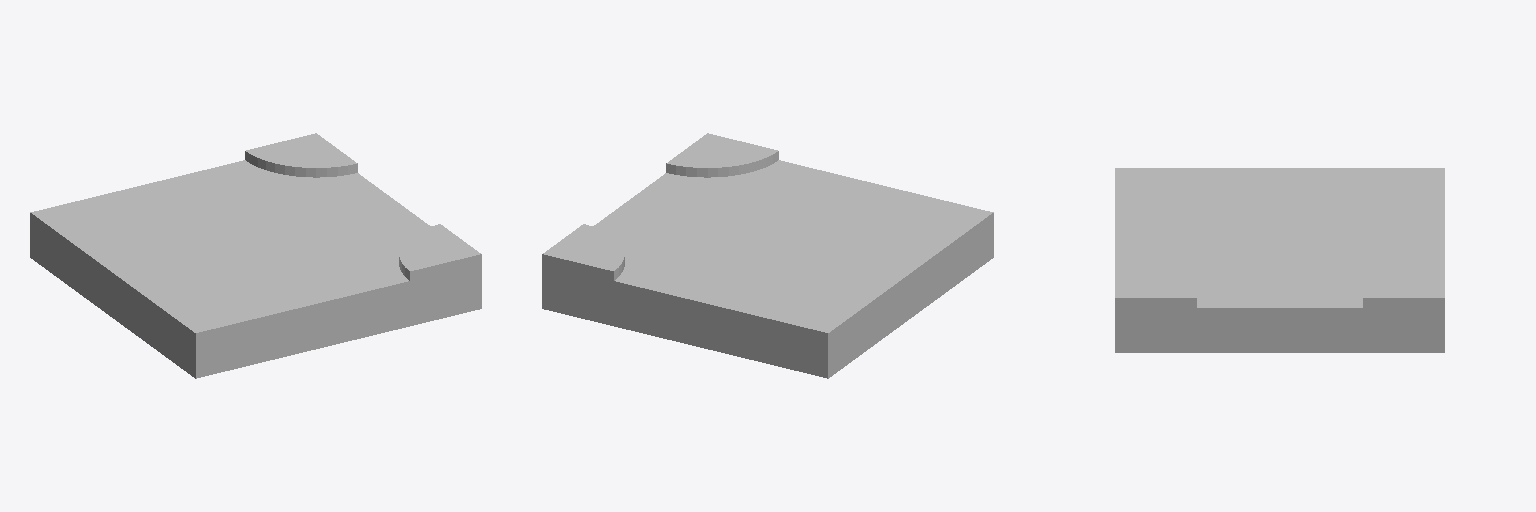
File: tile097.obj
The picture shows the model from 3 angles: view 1: azimuth 30°, elevation 25°; view 2: azimuth 150°, elevation 25°; view 3: azimuth 270°, elevation 25°; orthographic projection.
Parts seen in each view (by area): view 1: tile097; view 2: tile097; view 3: tile097.
Boxes of the visible parts, x1=… form: tile097: x1=30, y1=133, x2=481, y2=378; tile097: x1=542, y1=133, x2=993, y2=378; tile097: x1=1115, y1=168, x2=1444, y2=352.
Bounding box in the file's own units: 1 × 0.1833 × 1.